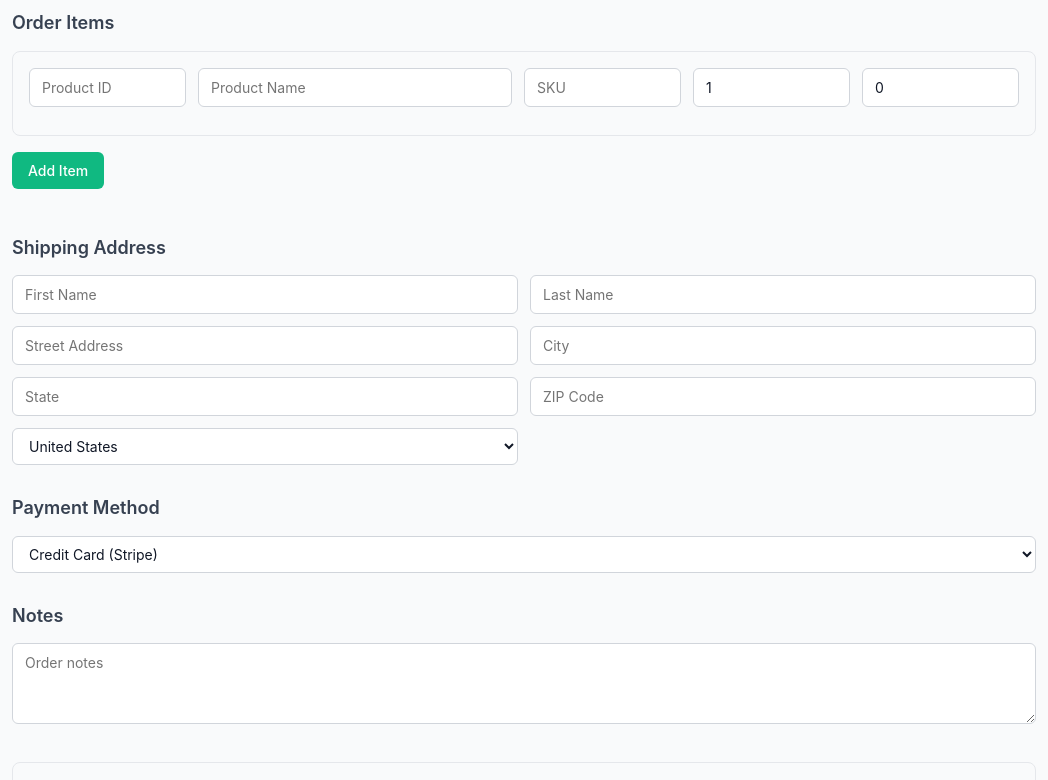
Scenario: OrderForm › should add and remove items
Expected: the number of fields with placeholder "Product ID" is 1, x1=29 y1=68 x2=186 y2=106
Note: Add item
What coordinates should you click on to do the following:
click the button "Add Item"
I would click on:
 (58, 170)
Its box is x1=12 y1=152 x2=104 y2=188.
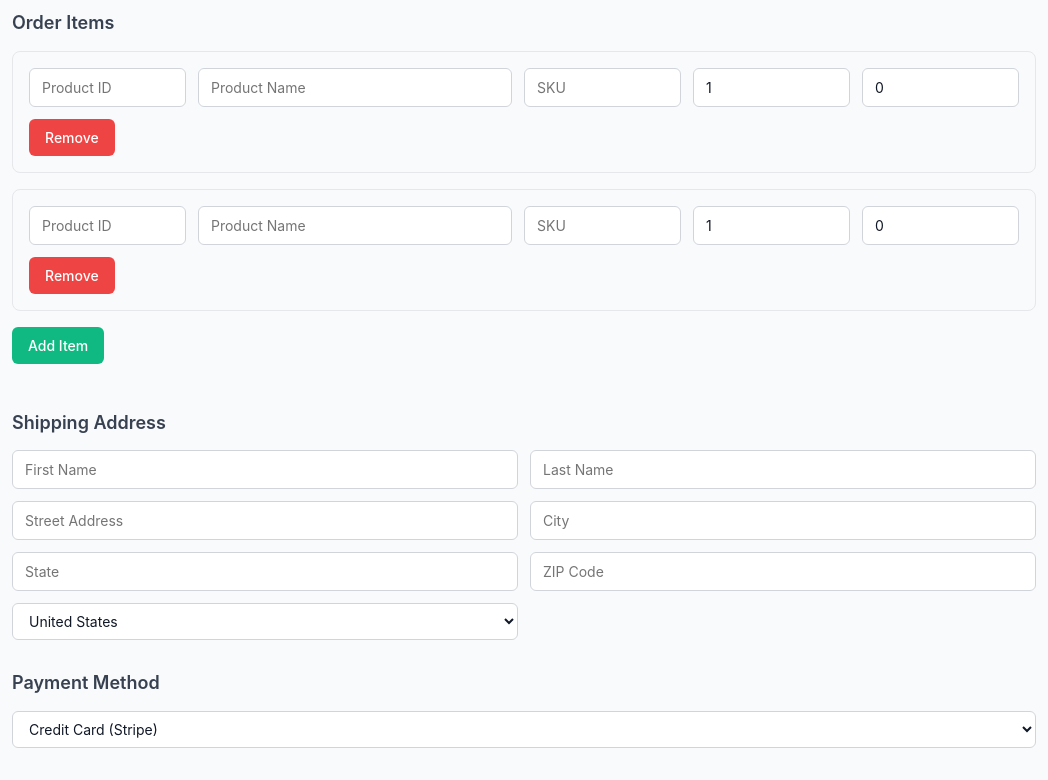
Expected: the number of fields with placeholder "Product ID" is 2, x1=29 y1=68 x2=186 y2=106; x1=29 y1=206 x2=186 y2=244
Note: Remove item
What coordinates should you click on to do the following:
click the 1st button "Remove"
I would click on:
 (72, 137)
Its box is x1=29 y1=118 x2=115 y2=156.
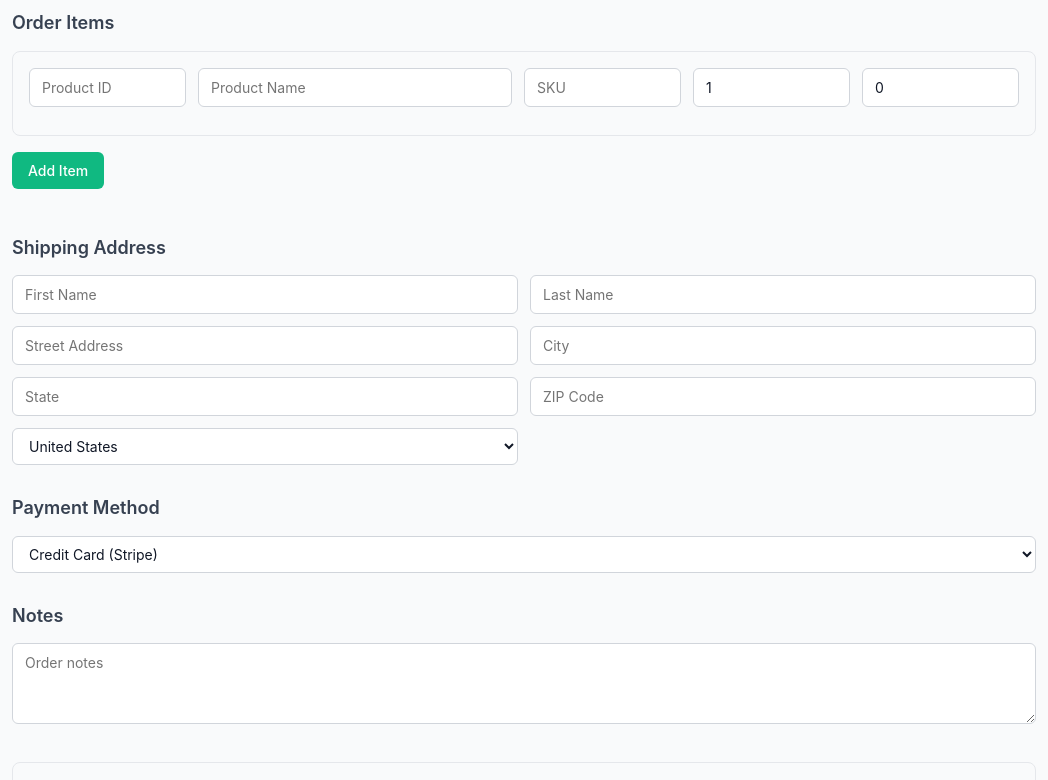
Expected: the number of fields with placeholder "Product ID" is 1, x1=29 y1=68 x2=186 y2=106
